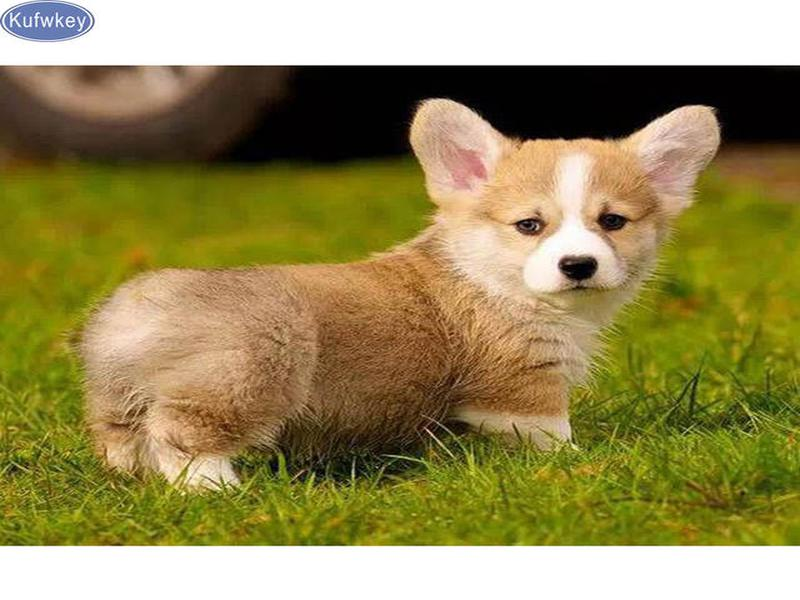corgi: (407, 98, 723, 306)
